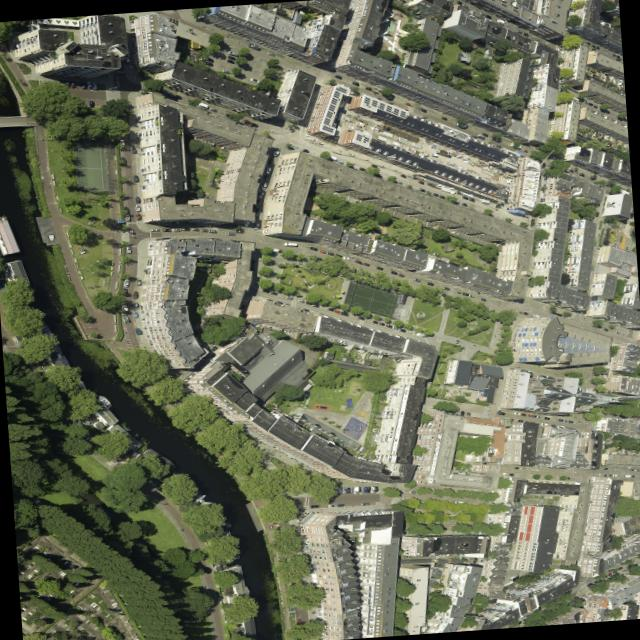ship: (95, 394, 112, 409), (193, 493, 205, 502)
small-vehicle: (119, 305, 128, 323), (434, 148, 451, 157), (246, 42, 259, 50), (196, 102, 208, 109), (454, 121, 466, 128), (494, 18, 505, 25), (225, 50, 237, 56), (271, 147, 279, 156), (259, 182, 268, 190), (14, 339, 22, 348), (72, 416, 81, 424), (171, 93, 181, 100), (201, 351, 211, 358), (146, 479, 156, 486), (153, 485, 163, 492), (326, 155, 337, 161), (474, 133, 485, 139), (248, 77, 258, 83), (248, 122, 258, 128), (503, 177, 511, 184), (121, 279, 128, 287), (133, 327, 140, 335), (351, 486, 358, 494), (163, 90, 172, 96), (207, 106, 216, 112), (220, 68, 229, 74), (283, 242, 296, 246), (495, 410, 505, 415), (222, 619, 232, 624), (266, 158, 273, 165), (79, 81, 85, 89), (119, 156, 125, 164), (528, 218, 534, 226), (133, 204, 139, 212), (266, 248, 278, 252), (209, 346, 217, 352), (131, 291, 137, 299), (265, 51, 274, 56), (332, 74, 341, 79), (226, 55, 235, 60), (203, 61, 212, 66), (300, 148, 309, 153), (223, 113, 232, 118), (241, 119, 250, 124), (339, 311, 348, 316), (411, 277, 420, 282), (284, 295, 293, 300), (87, 100, 93, 107), (242, 219, 248, 226), (133, 196, 139, 203), (134, 213, 140, 220), (134, 278, 140, 285), (123, 214, 129, 221), (122, 206, 128, 213), (257, 191, 263, 198), (120, 288, 126, 295), (368, 486, 374, 493), (350, 81, 358, 86), (483, 14, 491, 19), (225, 59, 233, 64), (85, 81, 90, 89), (205, 57, 213, 62), (557, 88, 565, 93), (480, 132, 488, 137), (308, 246, 316, 251), (317, 249, 325, 254), (325, 251, 333, 256), (118, 139, 123, 147), (451, 199, 459, 204), (416, 180, 424, 185), (274, 300, 282, 305), (260, 288, 268, 293), (310, 303, 318, 308), (295, 618, 300, 626), (300, 308, 309, 312), (345, 86, 354, 90), (90, 83, 96, 89), (142, 92, 151, 96), (130, 147, 136, 153), (264, 167, 270, 173), (207, 229, 216, 233), (254, 208, 260, 214), (255, 198, 261, 204), (239, 305, 245, 311), (309, 504, 318, 508), (359, 502, 368, 506), (471, 557, 477, 563), (521, 32, 528, 37), (132, 175, 137, 182), (69, 81, 74, 88), (58, 80, 63, 87), (123, 45, 128, 52), (123, 56, 128, 63), (455, 0, 462, 5), (461, 3, 468, 8), (535, 175, 540, 182), (249, 216, 254, 223), (461, 195, 468, 200), (467, 197, 474, 202), (249, 266, 254, 273), (332, 309, 339, 314), (131, 311, 136, 318), (389, 270, 396, 275), (439, 292, 446, 297), (361, 486, 366, 493), (289, 580, 294, 587), (293, 602, 298, 609), (585, 582, 592, 587), (429, 153, 437, 157), (398, 174, 406, 178), (369, 164, 377, 168), (333, 254, 341, 258), (341, 256, 349, 260), (361, 262, 369, 266), (374, 266, 382, 270), (352, 259, 360, 263), (199, 228, 207, 232), (190, 227, 198, 231), (180, 227, 188, 231), (161, 228, 169, 232), (531, 314, 539, 318), (269, 291, 277, 295), (296, 299, 304, 303), (304, 301, 312, 305), (363, 86, 371, 90), (460, 292, 468, 296), (441, 286, 449, 290), (425, 282, 433, 286), (384, 324, 392, 328), (553, 48, 559, 53), (589, 43, 595, 48), (515, 29, 521, 34), (63, 81, 68, 87), (294, 117, 300, 122), (262, 175, 268, 180), (253, 223, 258, 229), (250, 260, 255, 266), (125, 247, 130, 253), (590, 420, 595, 426), (131, 301, 136, 307), (365, 486, 370, 492), (452, 501, 462, 504), (348, 487, 353, 493), (344, 487, 349, 493), (336, 487, 341, 493), (478, 12, 485, 16), (437, 195, 444, 199), (521, 148, 528, 152), (358, 167, 365, 171), (336, 160, 343, 164), (373, 173, 380, 177), (419, 108, 426, 112), (493, 144, 500, 148), (403, 102, 410, 106), (314, 256, 321, 260), (494, 138, 501, 142), (460, 202, 467, 206), (431, 192, 438, 196), (549, 311, 556, 315), (377, 322, 384, 326), (370, 320, 377, 324), (357, 316, 364, 320), (317, 313, 324, 317), (283, 303, 290, 307), (326, 307, 333, 311), (417, 188, 424, 192), (478, 297, 485, 301), (466, 294, 473, 298), (396, 273, 403, 277), (398, 328, 405, 332), (391, 326, 398, 330), (542, 416, 549, 420), (529, 414, 536, 418), (408, 490, 415, 494), (171, 228, 180, 231), (465, 412, 470, 417), (443, 410, 448, 415), (340, 488, 345, 493), (464, 561, 469, 566), (584, 41, 590, 45), (603, 110, 609, 114), (598, 108, 604, 112), (591, 104, 597, 108), (586, 102, 592, 106), (582, 100, 588, 104), (440, 116, 446, 120), (578, 173, 584, 177), (567, 169, 573, 173), (533, 190, 537, 196), (226, 232, 234, 235), (396, 180, 402, 184), (601, 327, 607, 331), (521, 311, 527, 315), (405, 330, 411, 334), (555, 425, 563, 428), (459, 410, 463, 416), (373, 486, 377, 492), (600, 575, 606, 579), (356, 486, 360, 492), (335, 504, 343, 507), (611, 569, 617, 573), (616, 566, 622, 570), (444, 197, 451, 200), (346, 164, 353, 167), (556, 419, 563, 422), (534, 415, 541, 418), (539, 423, 546, 426), (516, 419, 523, 422), (623, 474, 630, 477), (327, 504, 334, 507), (506, 473, 513, 476), (447, 493, 454, 496), (439, 527, 446, 530), (594, 45, 599, 49), (466, 554, 470, 559), (594, 212, 598, 217), (603, 183, 608, 187), (627, 326, 632, 330), (578, 309, 583, 313), (635, 414, 639, 419), (453, 411, 457, 416), (450, 411, 454, 416), (483, 500, 487, 505), (477, 531, 481, 536), (606, 572, 611, 576), (607, 185, 613, 188), (595, 325, 601, 328), (555, 313, 561, 316), (561, 419, 567, 422), (549, 424, 555, 427), (528, 421, 534, 424), (522, 420, 528, 423), (513, 412, 519, 415), (519, 413, 525, 416), (525, 414, 531, 417), (512, 466, 518, 469), (585, 575, 591, 578), (589, 427, 593, 431), (600, 361, 604, 365), (592, 372, 596, 376), (610, 53, 615, 56), (621, 118, 626, 121), (588, 177, 593, 180), (611, 474, 616, 477), (614, 331, 619, 334), (614, 55, 619, 58), (567, 420, 572, 423), (424, 190, 429, 193), (519, 467, 524, 470), (564, 476, 569, 479), (602, 467, 607, 470), (589, 324, 594, 326), (633, 469, 638, 471), (606, 474, 611, 476), (611, 468, 616, 470), (628, 469, 633, 471), (601, 474, 605, 476), (629, 475, 633, 477)
